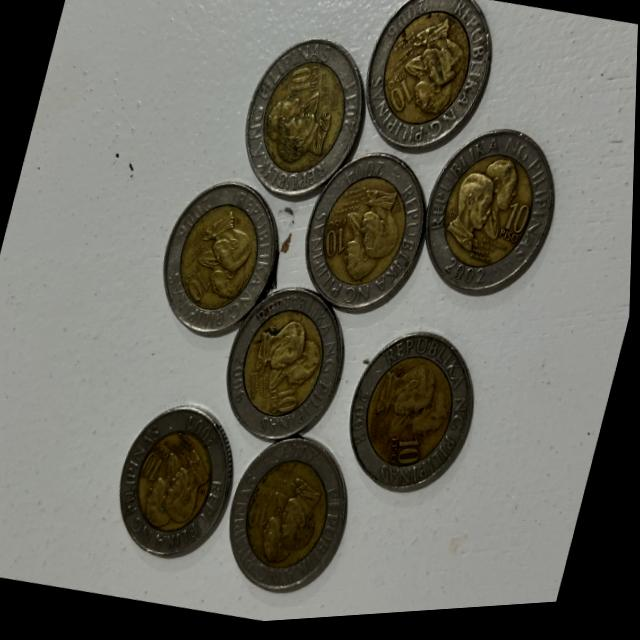10_Old_Front: (490, 187, 545, 262), (381, 426, 436, 488), (313, 206, 364, 271)
